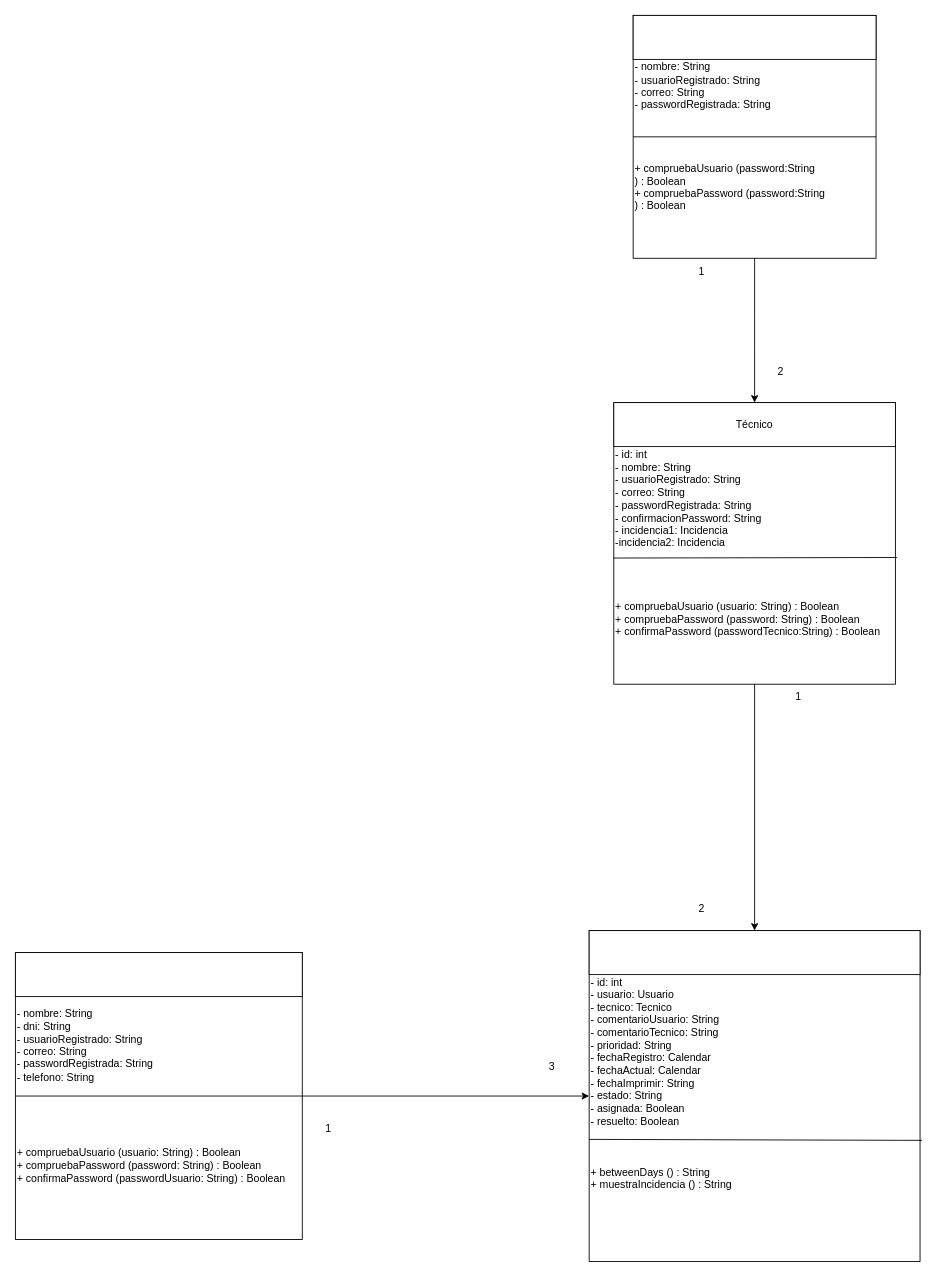
This 939x1277 diagram has some shape labels left out. The shapes that lost their labels are listed below. From the top down, each one's centre as x and y in pixels, then its label:
At point 754,37: "Administracion".
At point 754,952: "Incidencia".
At point 158,974: "Usuario".
